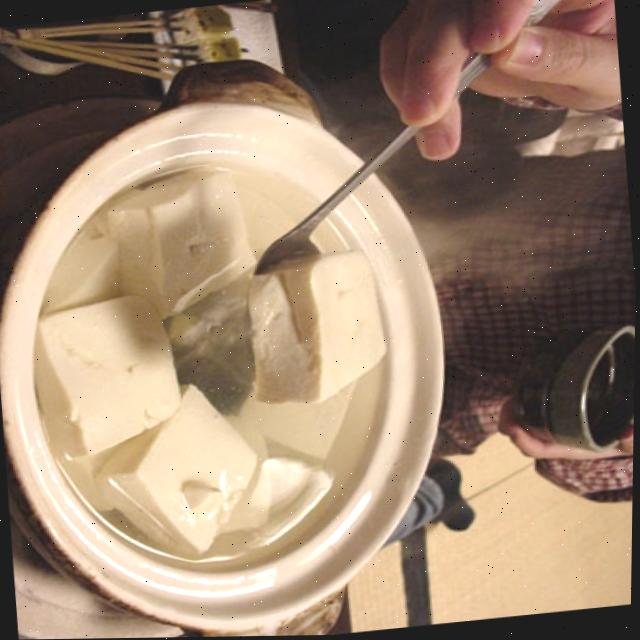豆腐料理: (0, 112, 462, 624)
